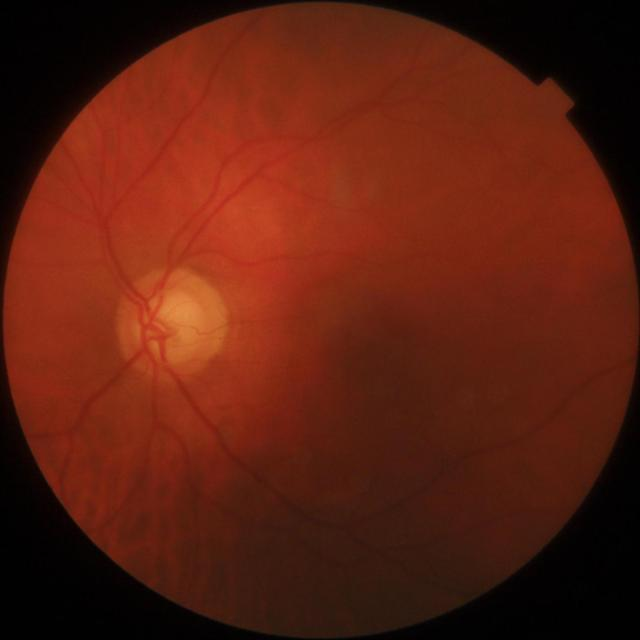OC: (139, 287, 209, 365)
OD: (115, 270, 227, 382)
